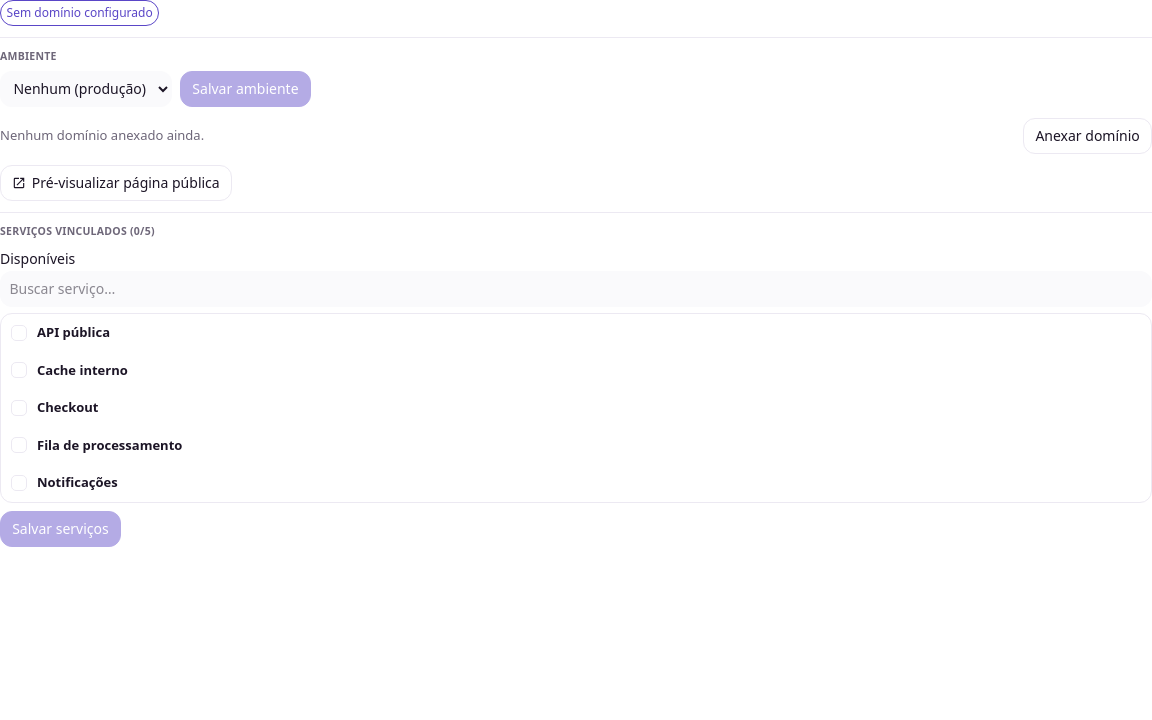
Test case: StatusPageDetail › no domain (domain_id null) shows a distinct label and an attach-domain button (SPD-12)
Expected: the text "Sem domínio configurado" is shown, [0, 0, 159, 26]
Expected: the link "Pré-visualizar página pública" is shown, [0, 165, 232, 201]
Click the button "Anexar domínio": (1088, 136) [1023, 118, 1151, 154]
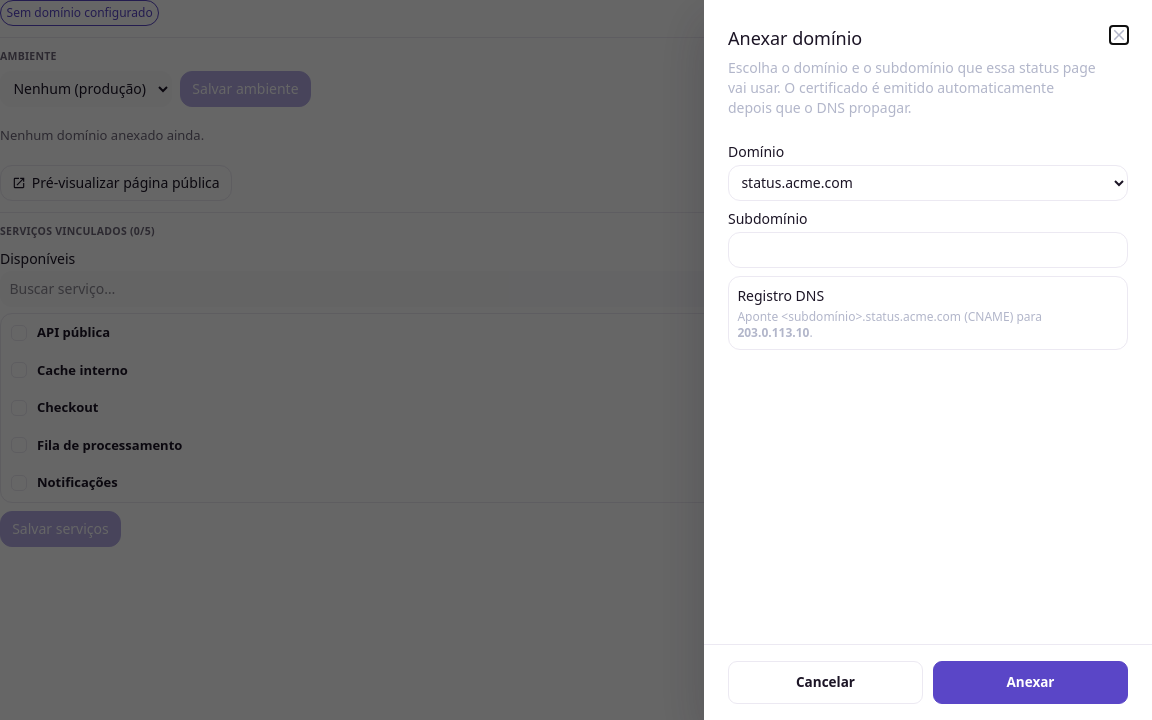
Expected: the dropdown labelled "Domínio" is shown, [728, 165, 1128, 201]
